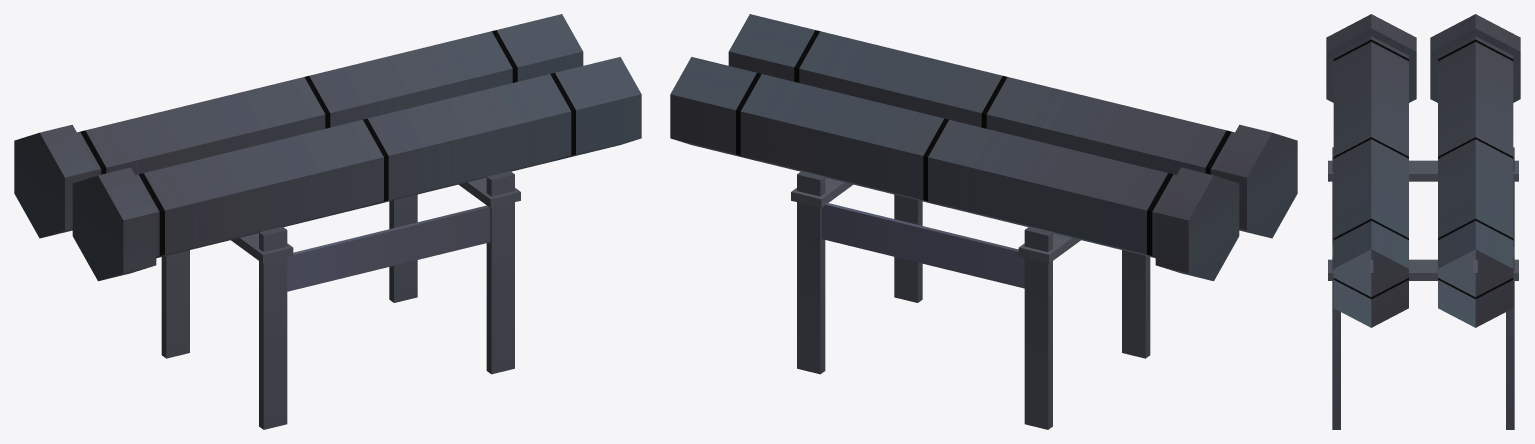
Rendered from SM_Pipe_1.FBX.
3 renders of one model, left to right at view 1: azimuth 30°, elevation 25°; view 2: azimuth 150°, elevation 25°; view 3: azimuth 270°, elevation 25°, orthographic. The views are drawn at different scales.
Parts seen in each view (by area): view 1: SM_Pipe_1; view 2: SM_Pipe_1; view 3: SM_Pipe_1.
Boxes of the visible parts, x1,y1,x2,y2 form: SM_Pipe_1: [14, 14, 641, 429]; SM_Pipe_1: [670, 14, 1297, 429]; SM_Pipe_1: [1326, 14, 1520, 429].
Size of what is drawn, in the model's own units: 496 by 179 by 248.
